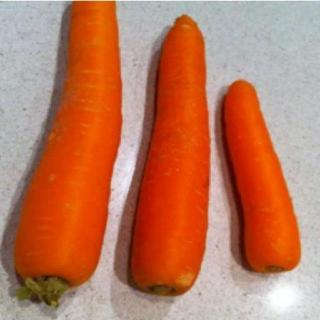carrot: (15, 1, 121, 310), (126, 14, 210, 300), (221, 80, 303, 276)
